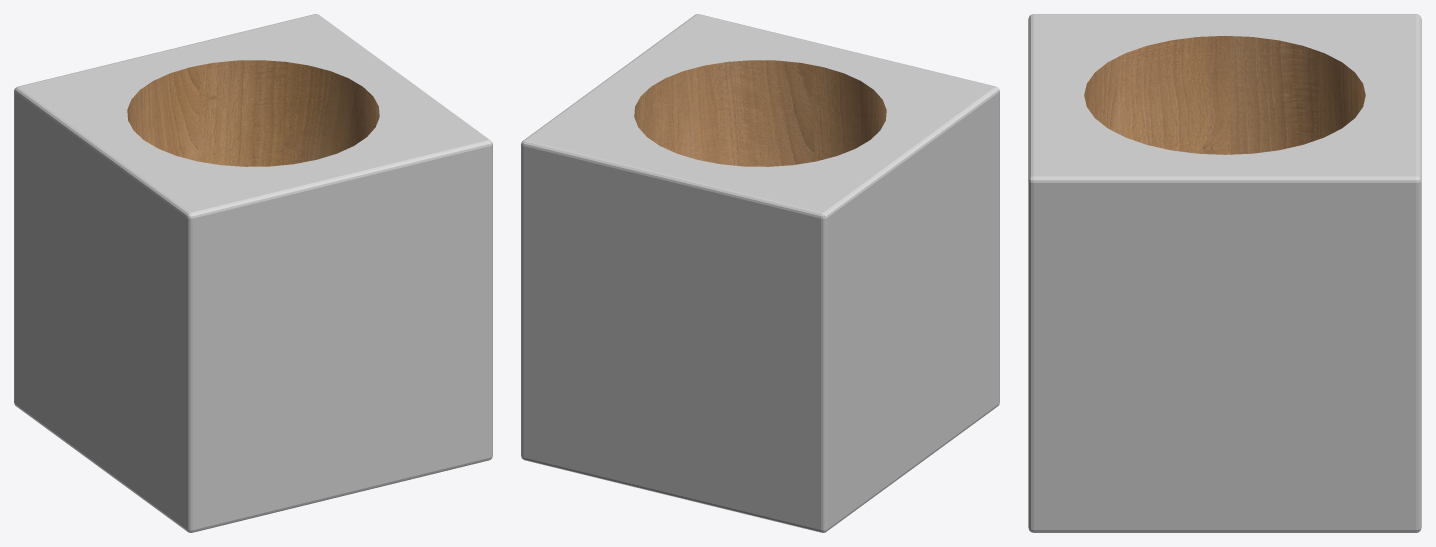
Rendered from CubePurple.fbx.
3 views of the same model, side by side, from view 1: azimuth 30°, elevation 25°; view 2: azimuth 150°, elevation 25°; view 3: azimuth 270°, elevation 25° (orthographic). The views are drawn at different scales.
Parts seen in each view (by area): view 1: Cube; view 2: Cube; view 3: Cube.
Boxes of the visible parts, x1,y1,x2,y2 form: Cube: (14,14,492,532); Cube: (521,14,999,532); Cube: (1028,14,1421,532).
Size of the model in its own units: 600 by 600 by 600.
